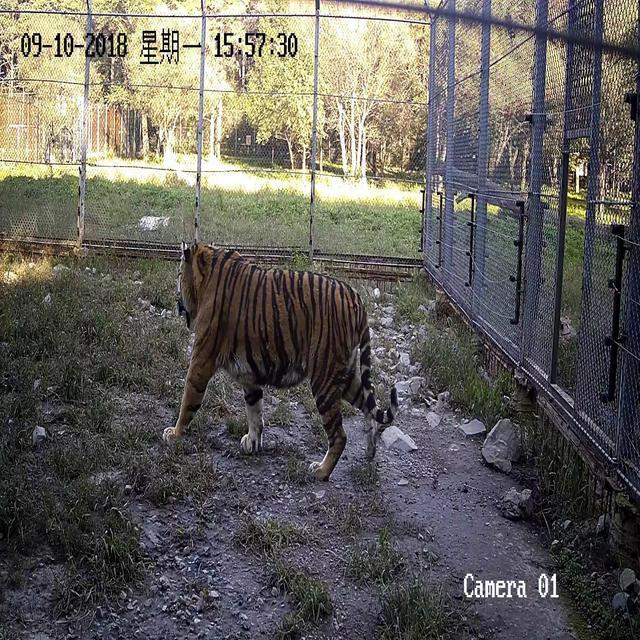tiger: (161, 240, 397, 482)
